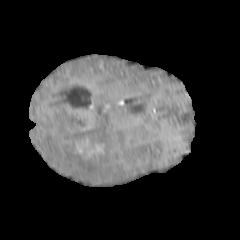glioma: (41, 108, 126, 180)
